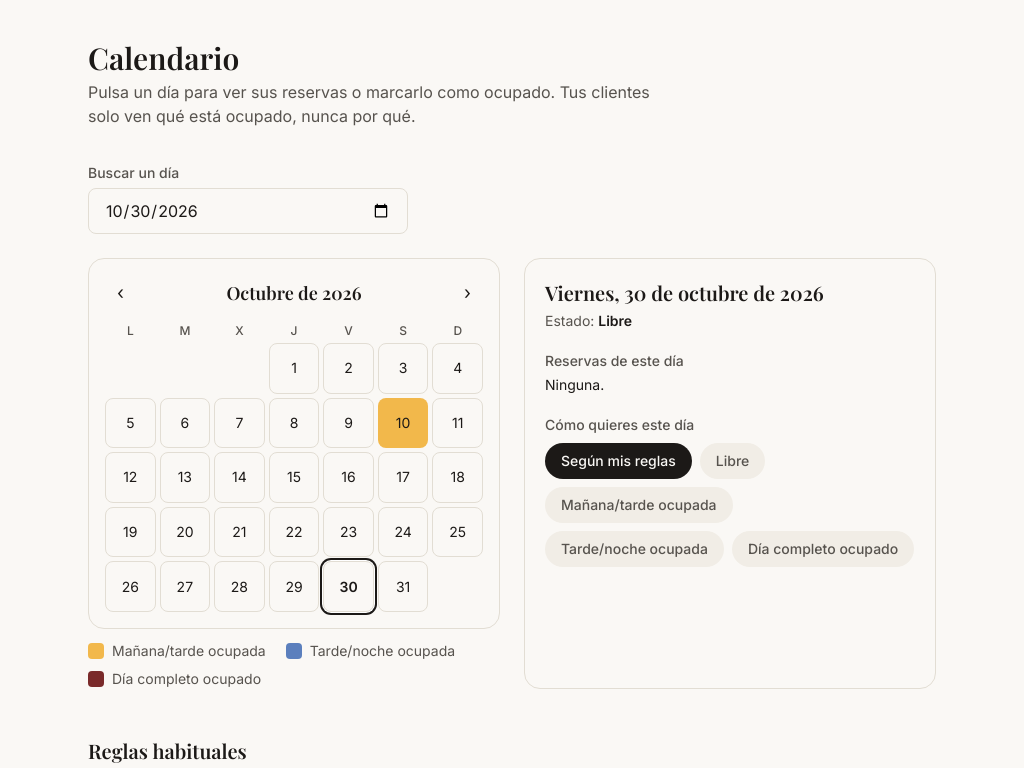
it: Calendario del panel › el buscador salta al mes de la fecha elegida
In the date field labelled "Buscar un día": {"x": 248, "y": 211} x1=88 y1=188 x2=408 y2=234, type "2030-05-20"
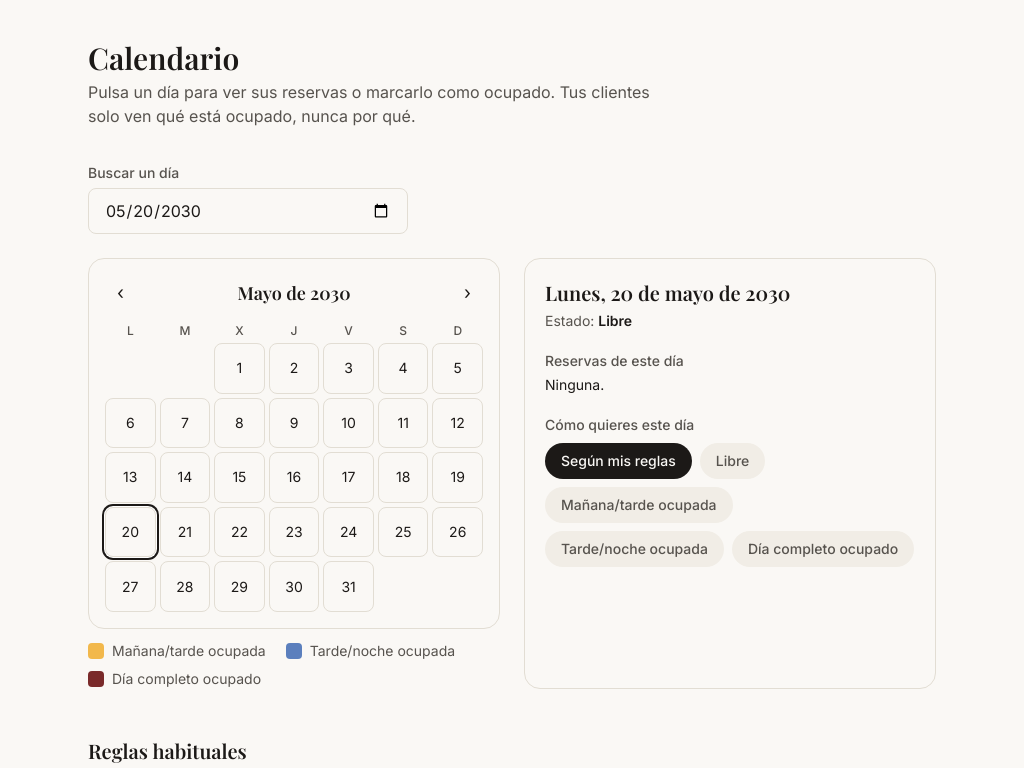
Now the text "Mayo de 2030" is shown, box x1=238 y1=279 x2=350 y2=307
Now the heading "Lunes, 20 de mayo de 2030" is shown, box x1=545 y1=279 x2=790 y2=306
